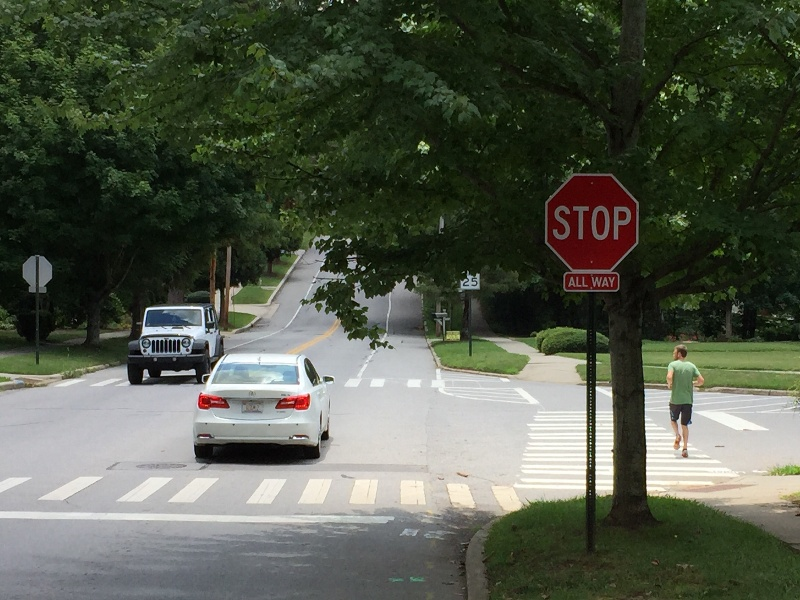stop sign: (539, 170, 644, 273), (457, 264, 482, 292)
